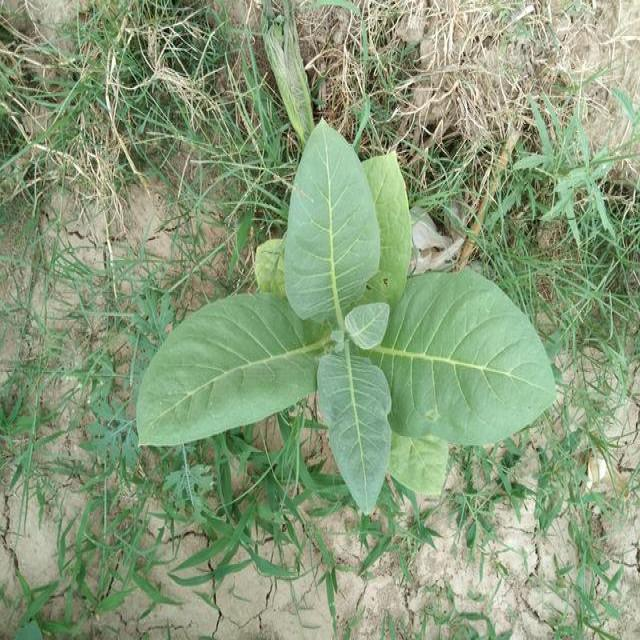crop: (124, 102, 572, 512)
